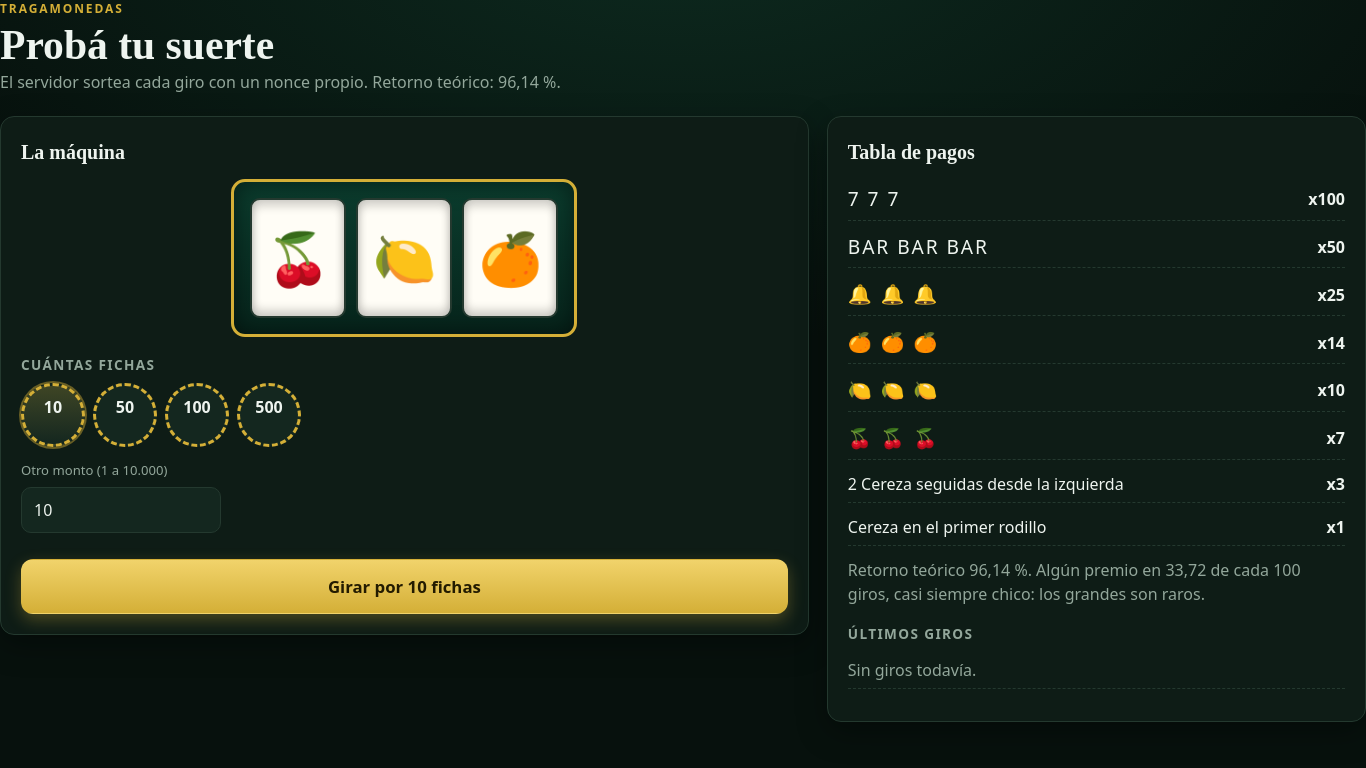
Test: Slots › tells the player when a spin only gives the stake back
Click the button "Girar por 10 fichas": point(404, 586) [21,559,788,614]
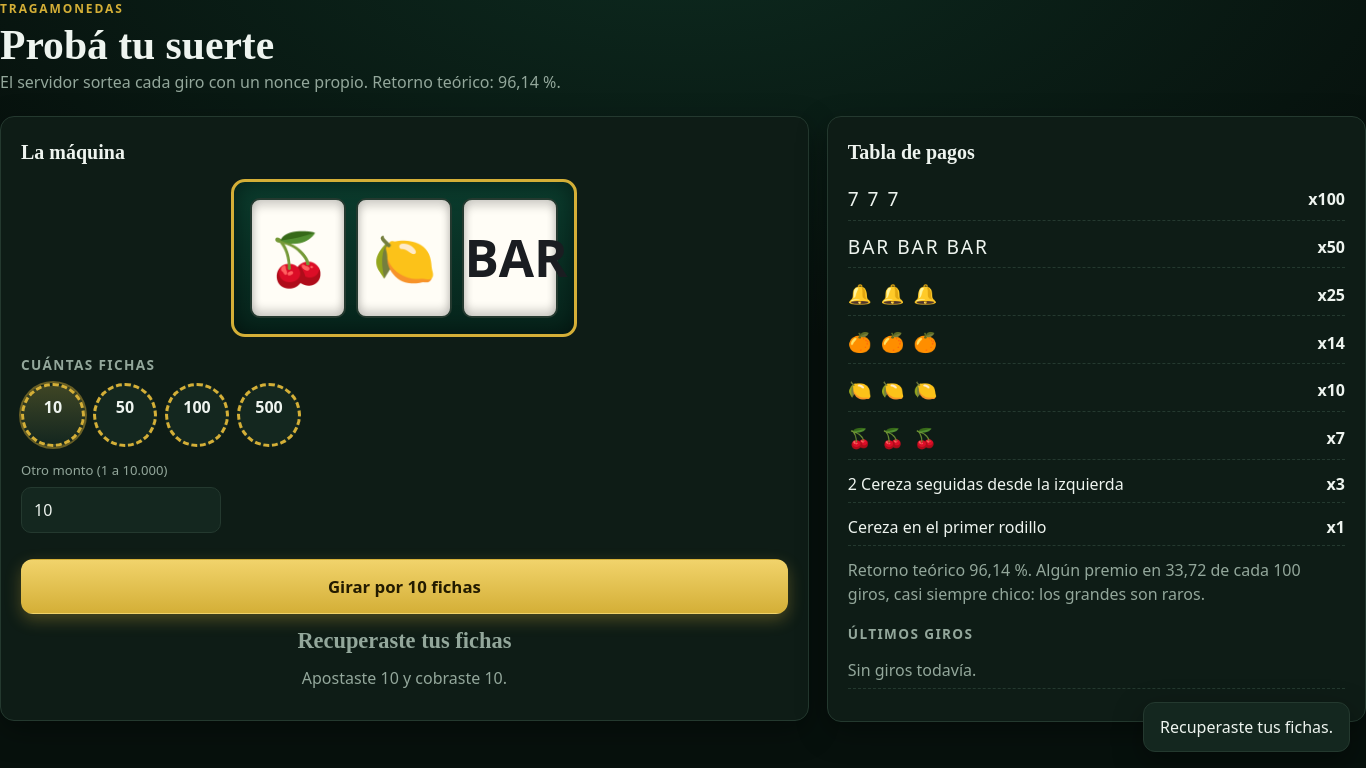
Check: the text "Recuperaste tus fichas" is shown, box [297,624,511,658]
